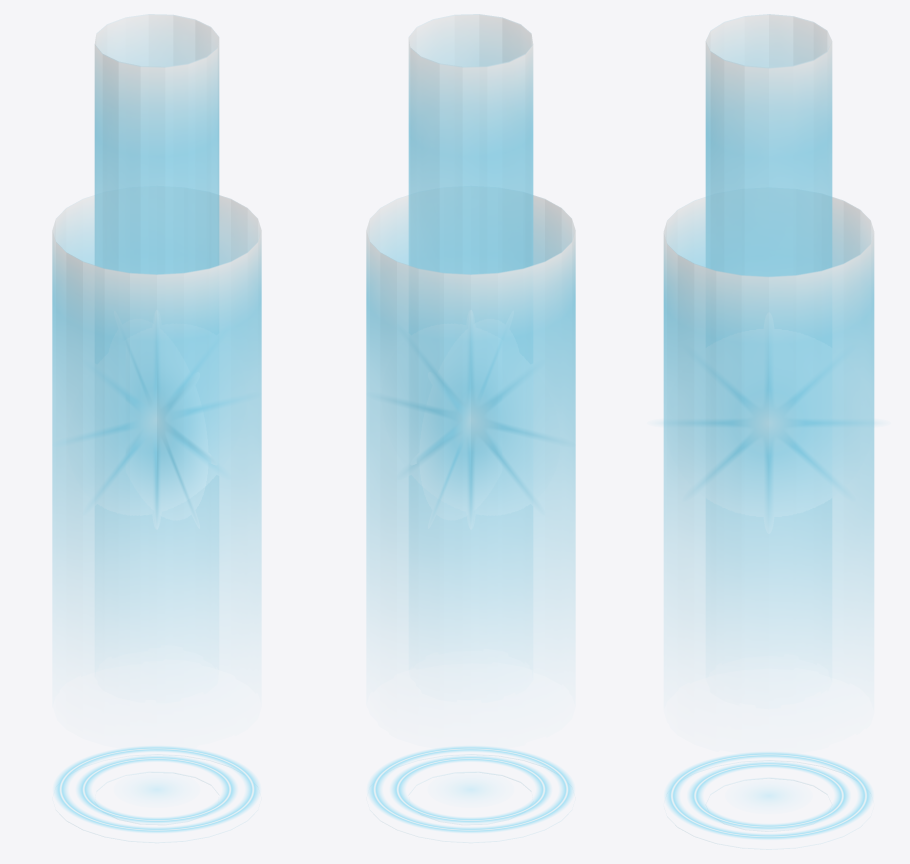
File: fx_up_frost.glb
3 renders of one model, left to right at view 1: azimuth 30°, elevation 25°; view 2: azimuth 150°, elevation 25°; view 3: azimuth 270°, elevation 25°, orthographic.
Parts seen in each view (by area): view 1: fx_up_pillar, fx_up_star, fx_up_ring; view 2: fx_up_pillar, fx_up_star, fx_up_ring; view 3: fx_up_pillar, fx_up_star, fx_up_ring.
Boxes of the visible parts, x1,y1,x2,y2 form: fx_up_pillar: [52, 14, 261, 842]; fx_up_star: [64, 347, 239, 517]; fx_up_ring: [54, 746, 259, 832]; fx_up_pillar: [366, 14, 575, 842]; fx_up_star: [387, 342, 563, 516]; fx_up_ring: [368, 746, 573, 832]; fx_up_pillar: [663, 14, 874, 849]; fx_up_star: [661, 352, 876, 510]; fx_up_ring: [665, 752, 872, 839].
Bounding box in the file's own units: 1.2 × 4 × 1.2.
3 materials, 3 textured.
